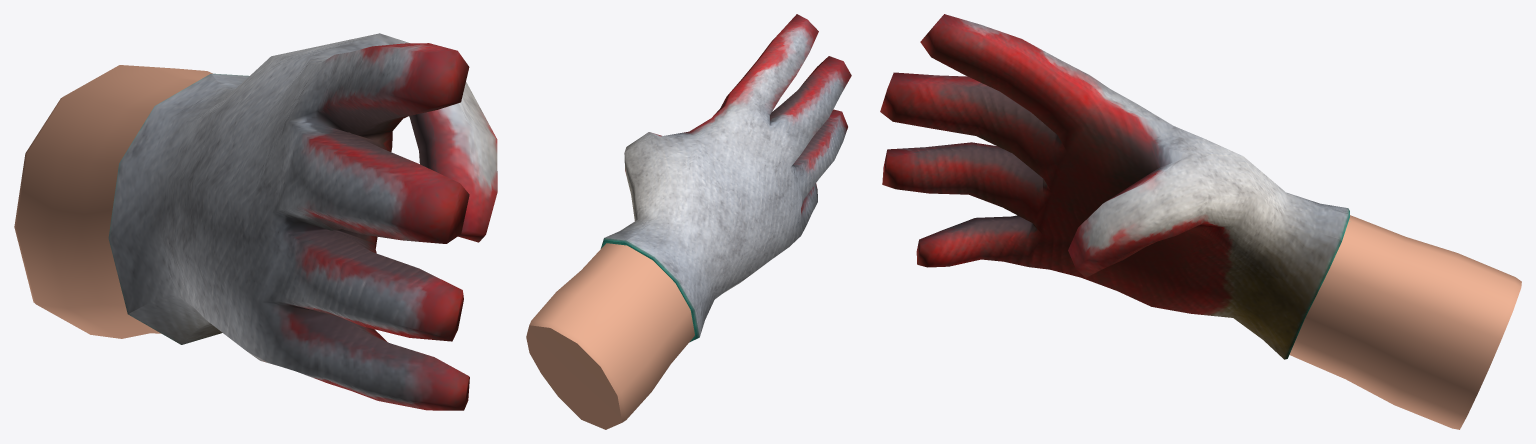
Rendered from rhand.fbx.
The picture shows the model from 3 angles, left to right: view 1: azimuth 30°, elevation 25°; view 2: azimuth 150°, elevation 25°; view 3: azimuth 270°, elevation 25°; orthographic projection. The views are drawn at different scales.
Parts seen in each view (by area): view 1: Hand_R; view 2: Hand_R; view 3: Hand_R.
Part boxes in pixels (x1=…): Hand_R: x1=14, y1=33, x2=497, y2=410; Hand_R: x1=526, y1=14, x2=851, y2=429; Hand_R: x1=880, y1=14, x2=1521, y2=429.
Bounding box in the file's own units: 10.28 × 20.01 × 29.76.
